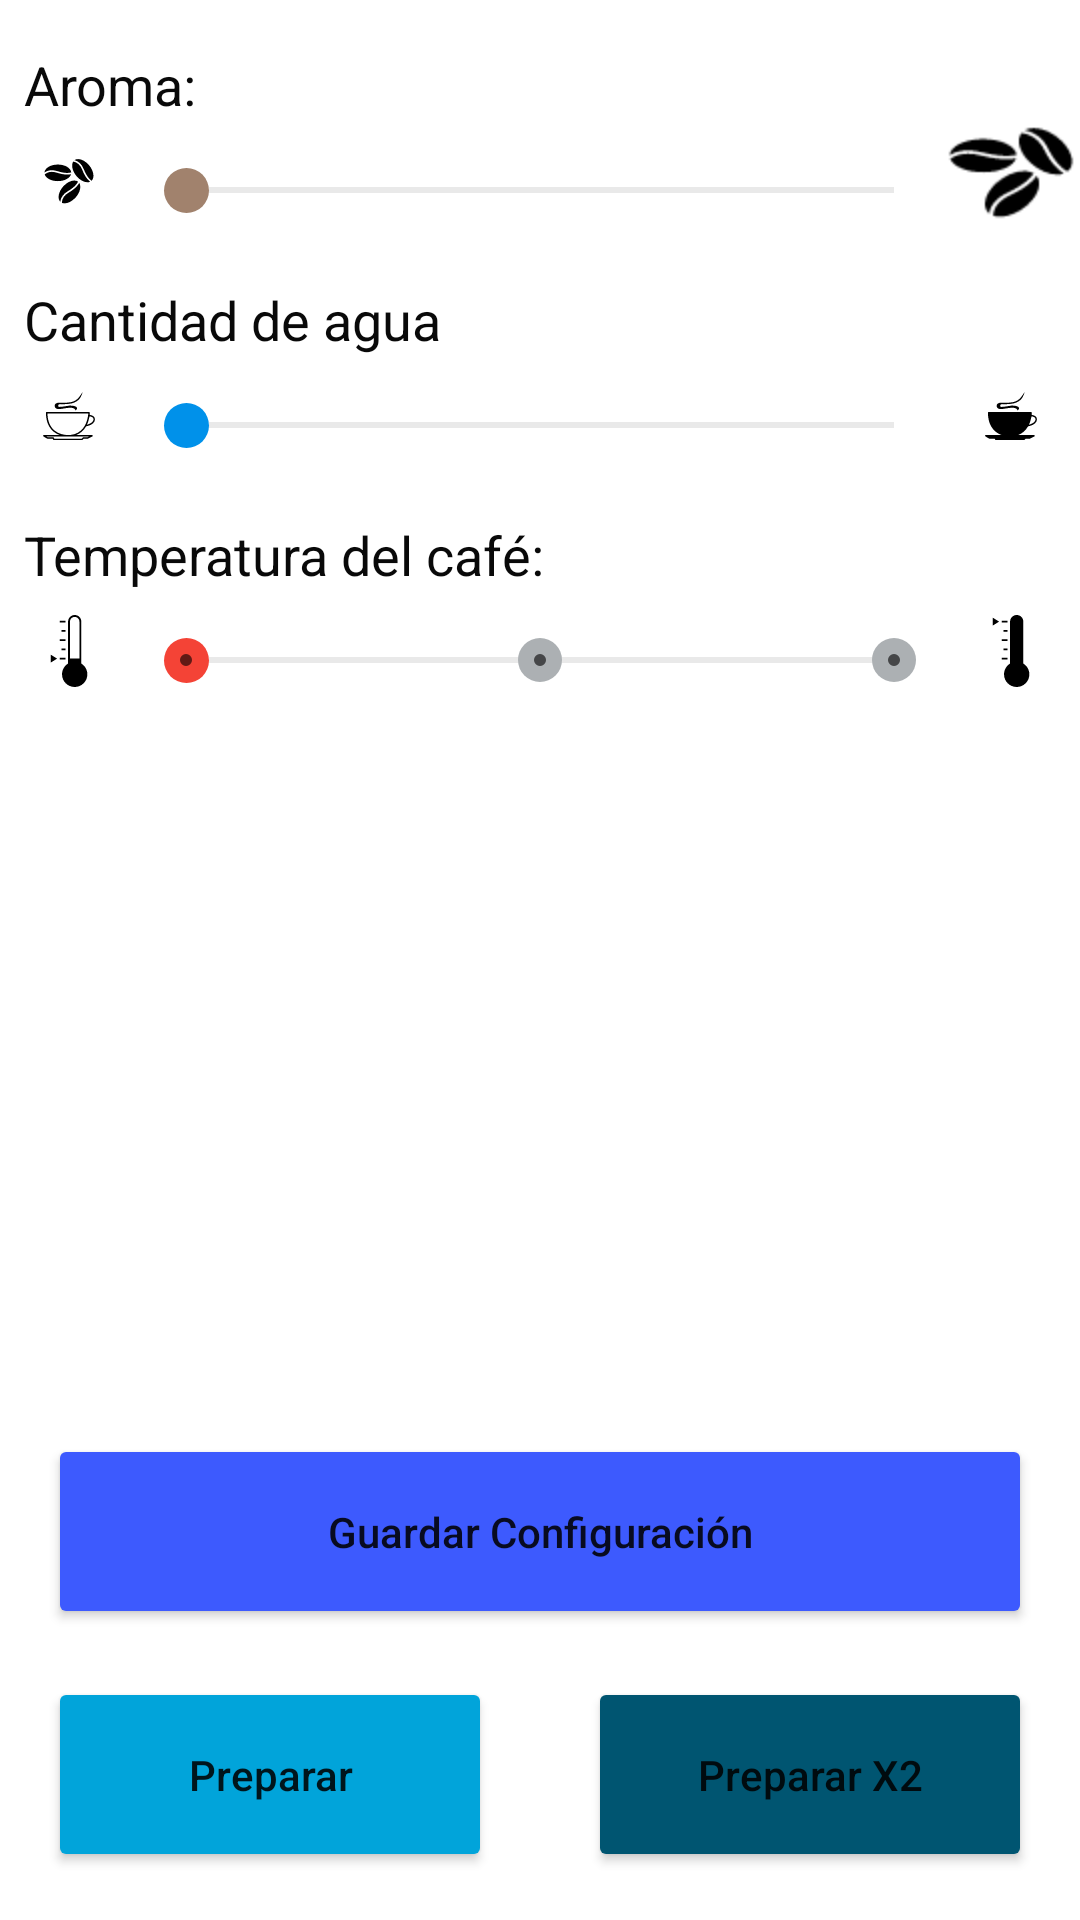

Where icons sit on this 1080 × 1920 app screen, as [x1, y1, x2, y2]:
empty coffe cup: [43, 392, 95, 440]
full coffe cup: [985, 392, 1037, 440]
